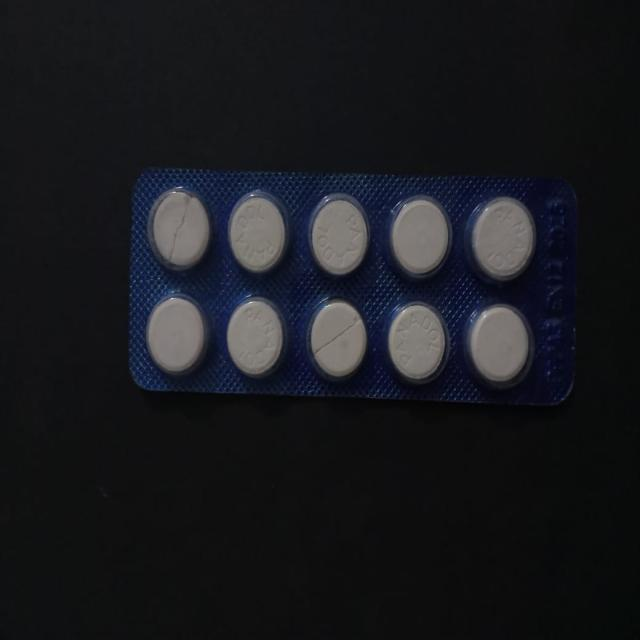defect: (146, 185, 213, 276), (307, 296, 370, 382)
